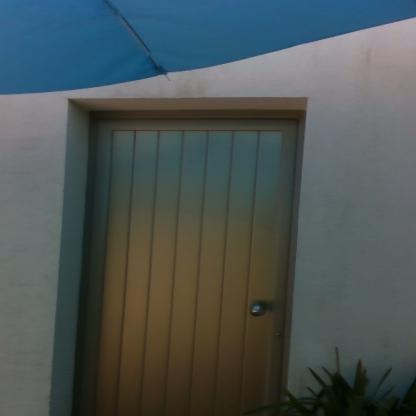door: (91, 119, 287, 416)
knob: (248, 300, 268, 318)
